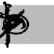not correct: (0, 0, 30, 49)
